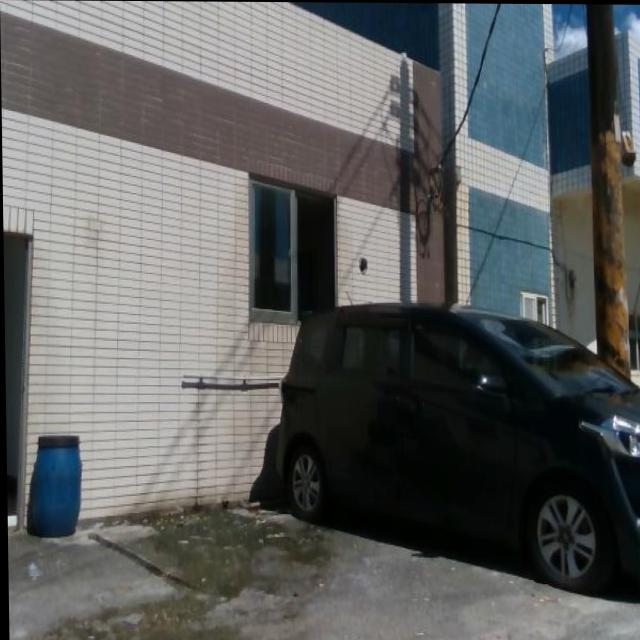pollute: (19, 431, 86, 544)
